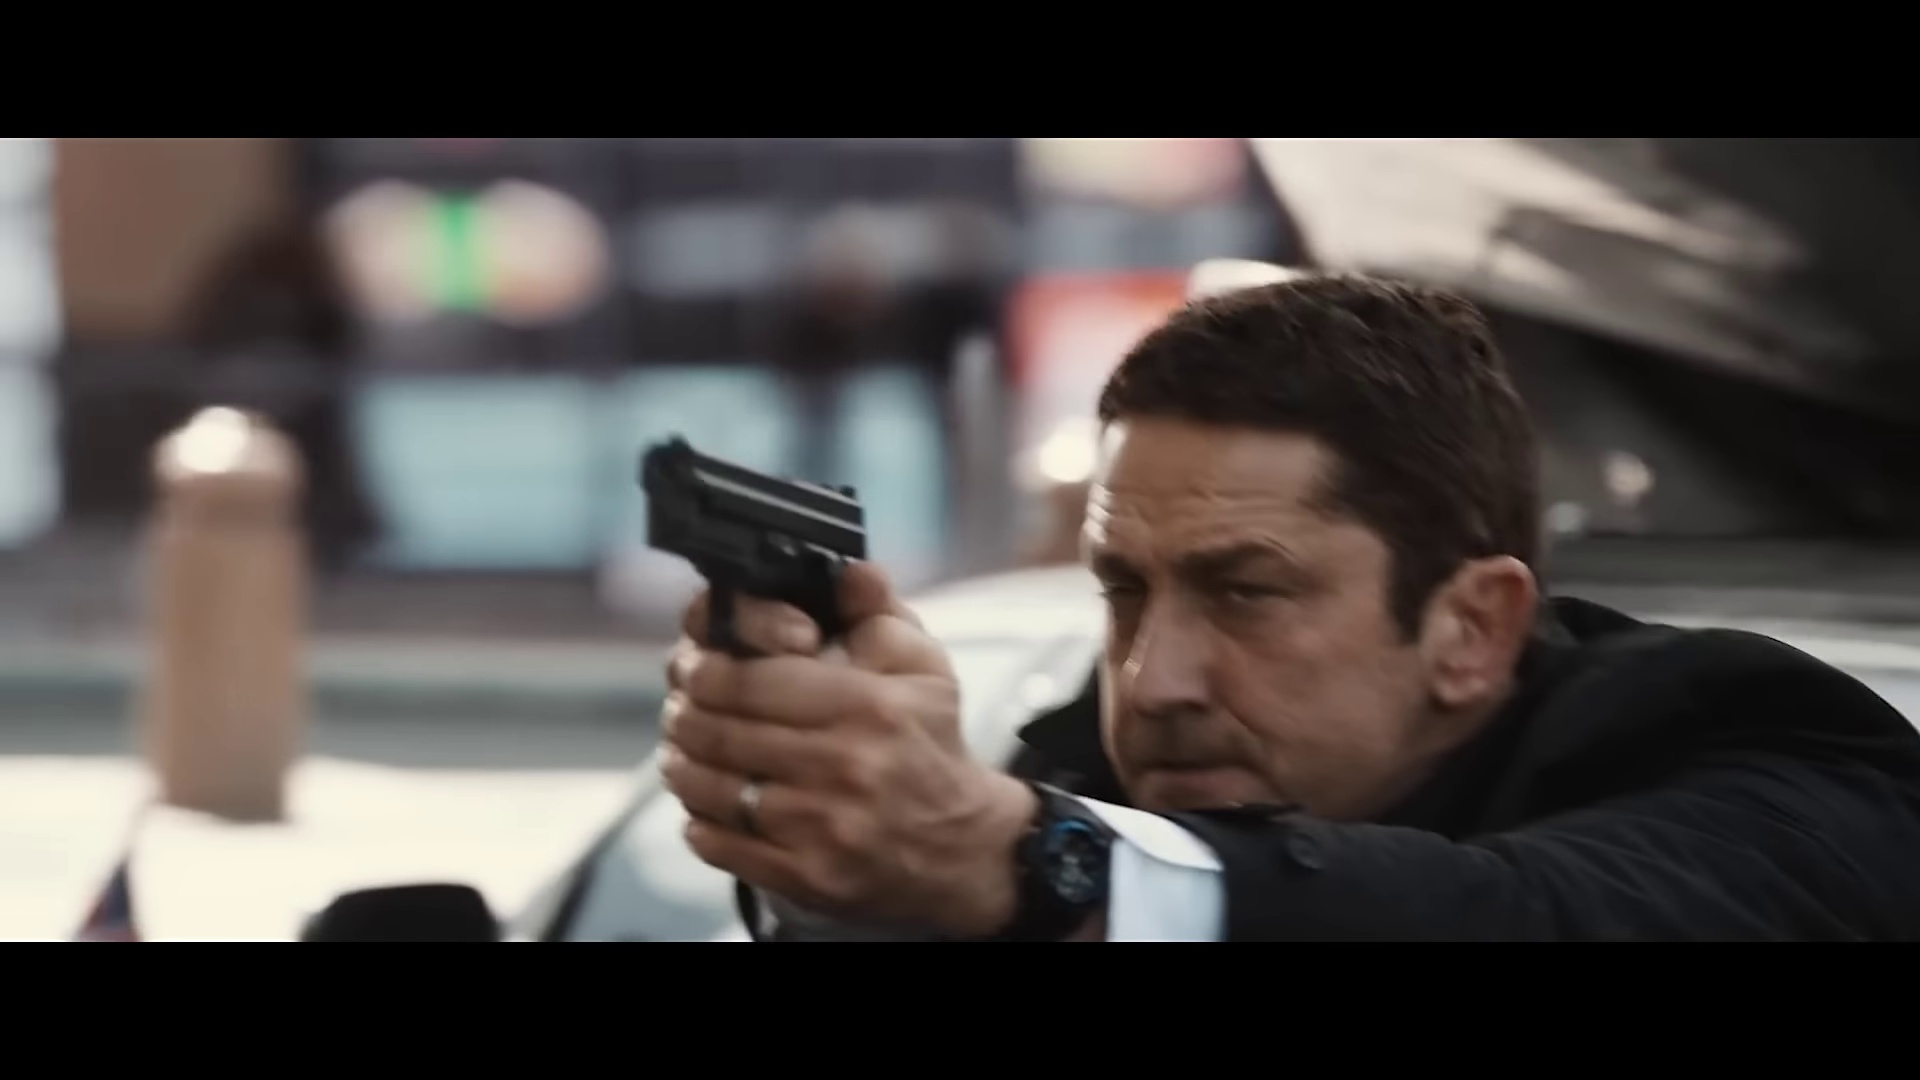gun: (630, 417, 870, 703)
p_w_gun: (636, 266, 1920, 934)
